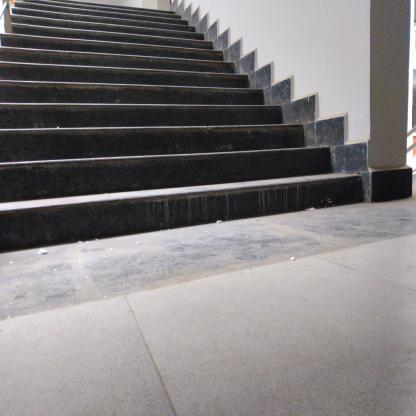stairs: (17, 10, 177, 250)
